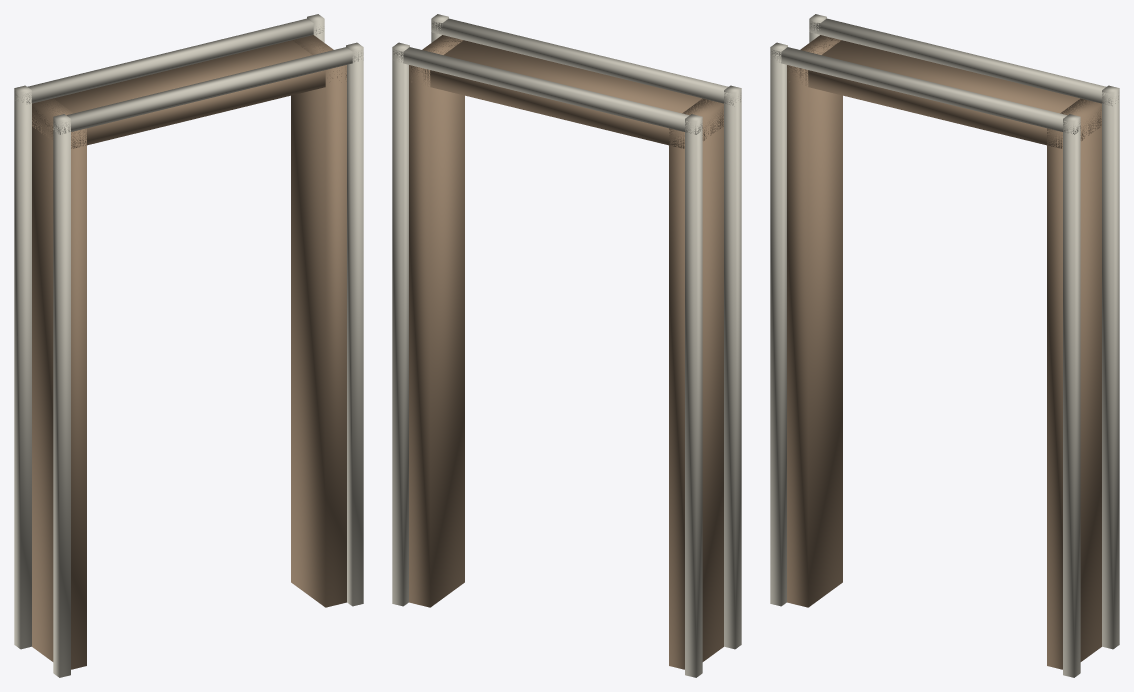
Rendered from doorway_painted_trim_w96_h200_d24.glb.
3 views of the same model, side by side, from view 1: azimuth 30°, elevation 25°; view 2: azimuth 150°, elevation 25°; view 3: azimuth 330°, elevation 25° (orthographic).
Parts seen in each view (by area): view 1: world; view 2: world; view 3: world.
Part boxes in pixels (x1,y1,x2,y2): world: [14, 14, 363, 677]; world: [392, 14, 741, 677]; world: [770, 14, 1119, 677].
Size of the model in its own units: 1.22 by 2.14 by 0.3165.
